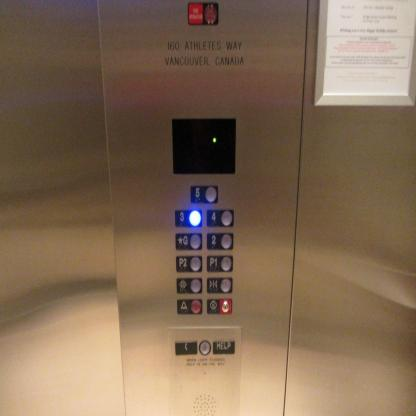2: (206, 232, 234, 250)
3: (174, 208, 203, 228)
4: (206, 208, 235, 227)
5: (190, 184, 218, 204)
P1: (206, 254, 233, 273)
P2: (175, 254, 203, 273)
alarm: (176, 298, 203, 315)
call: (174, 340, 198, 355)
close: (206, 276, 233, 294)
empty: (198, 339, 211, 356)
led: (171, 116, 236, 176)
open: (176, 276, 203, 295)
sG: (174, 232, 203, 250)
stop: (206, 297, 233, 315)
text: (186, 1, 219, 26)
text_help: (212, 339, 235, 355)
